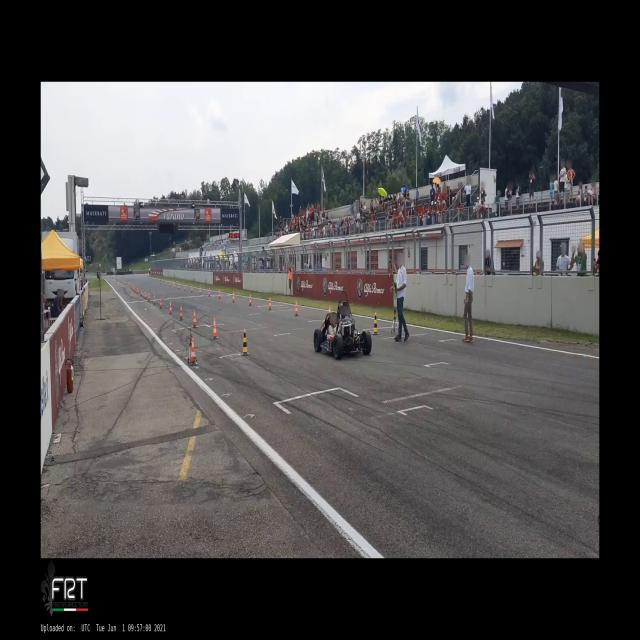large_orange_cone: (190, 338, 198, 366), (212, 318, 219, 339), (294, 301, 300, 316), (179, 306, 184, 321), (193, 310, 197, 328), (169, 301, 173, 315), (268, 297, 272, 310), (249, 294, 252, 306)
unknown_cone: (241, 329, 249, 356), (372, 312, 379, 334)
